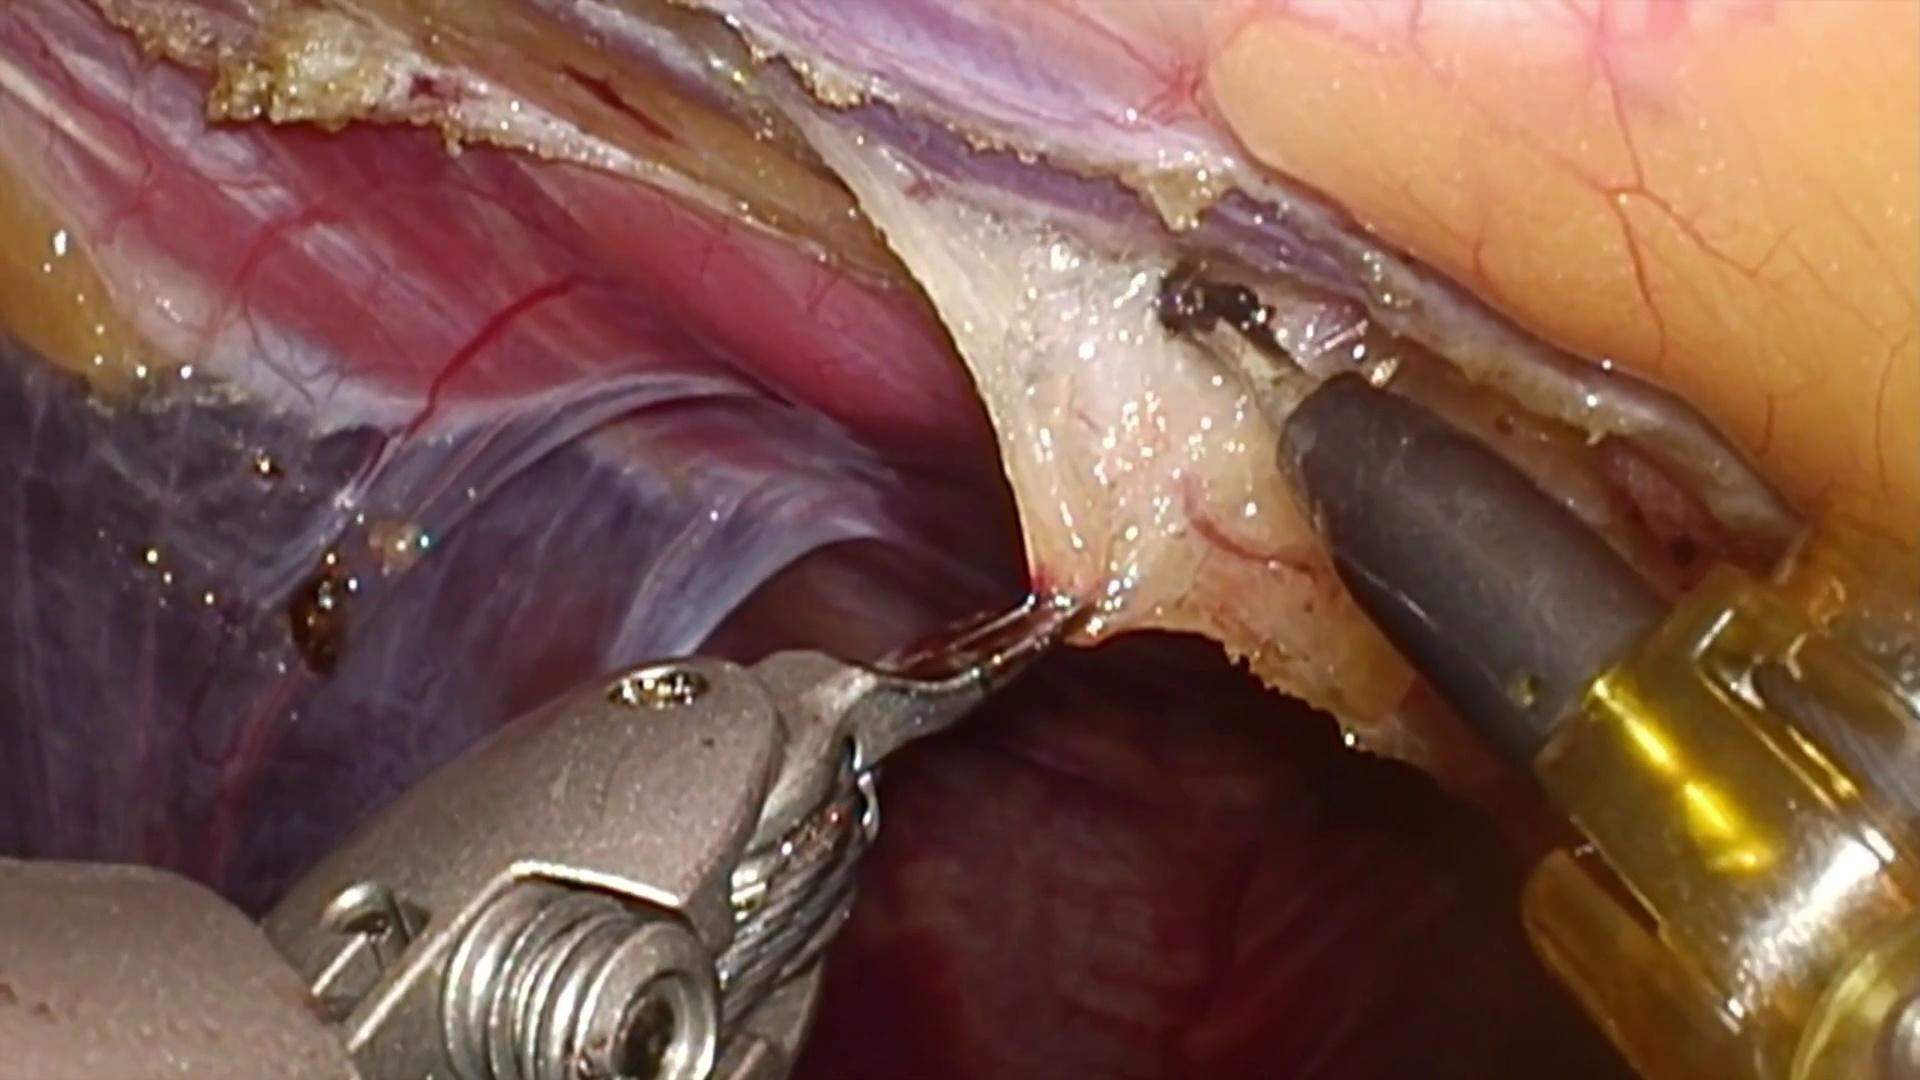Cautery_Spatula: (1160, 273, 1672, 779)
Debakey: (781, 584, 1108, 771)
